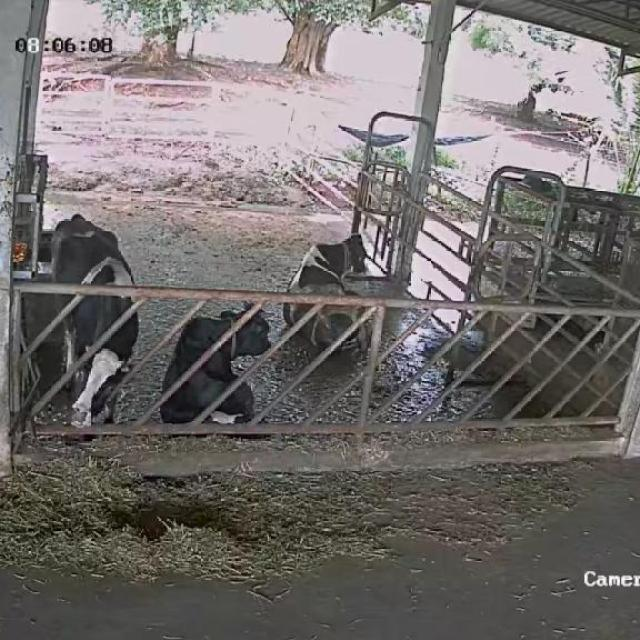feeding: (52, 214, 142, 444)
lying down: (156, 302, 273, 437), (282, 234, 372, 353)
